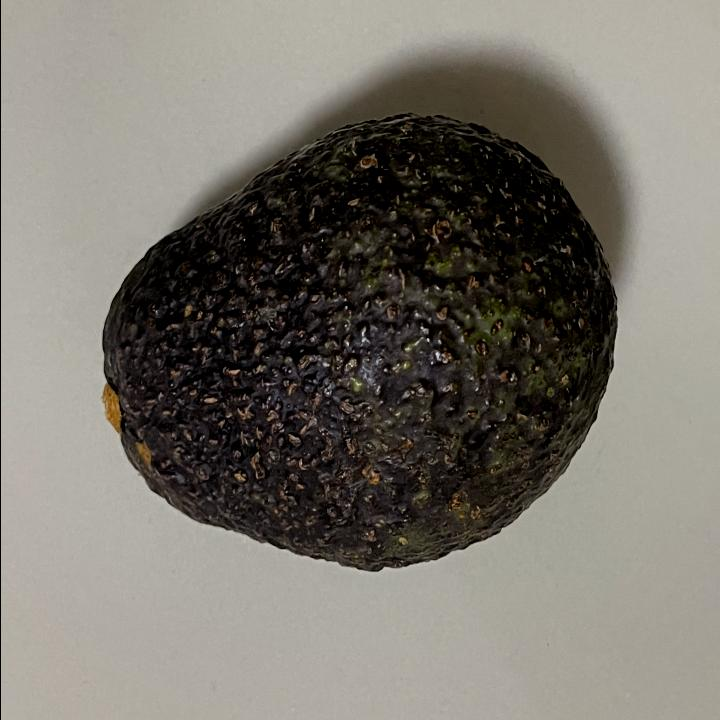Level2: (95, 102, 625, 583)
